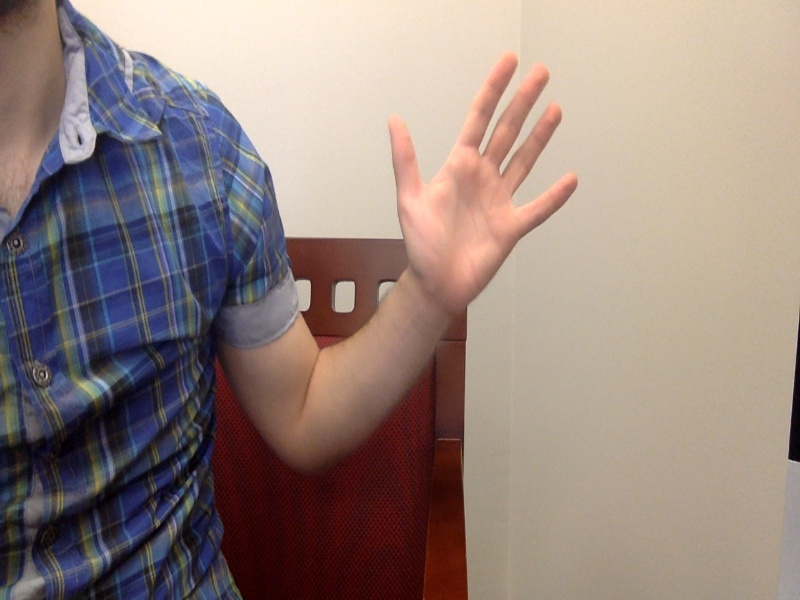5-hand: (384, 51, 582, 304)
